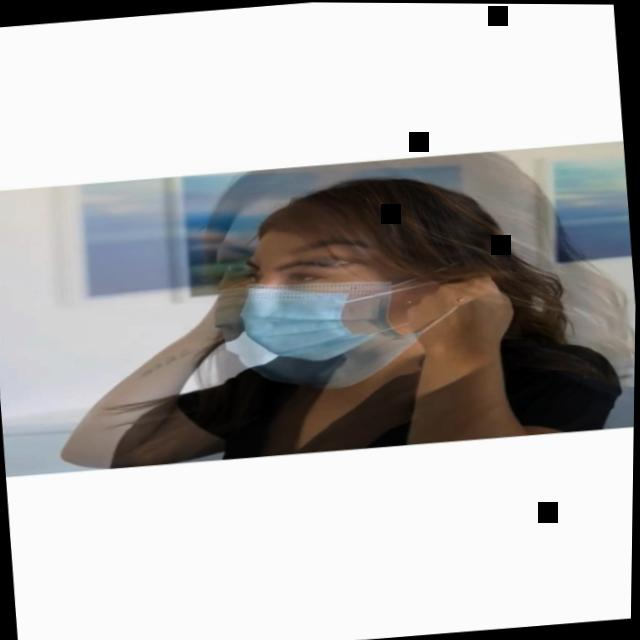Mask: (202, 178, 431, 398)
